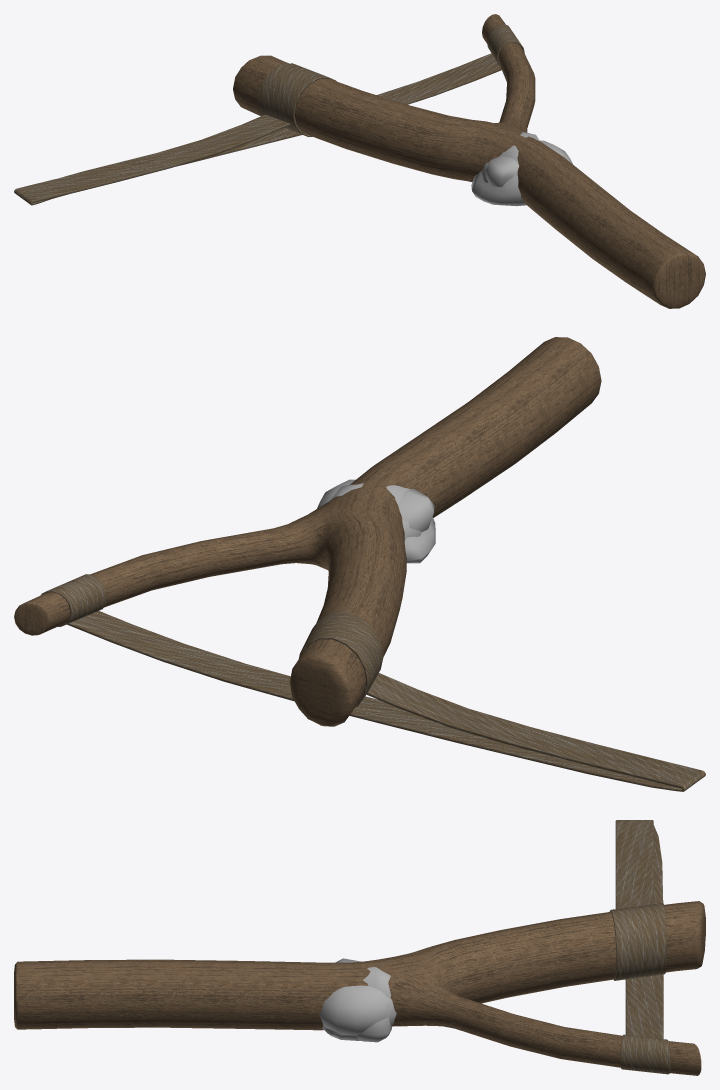
File: Weapon_SlingShot.fbx
The picture shows the model from 3 angles, top to bottom: view 1: azimuth 30°, elevation 25°; view 2: azimuth 150°, elevation 25°; view 3: azimuth 270°, elevation 25°; orthographic projection. The views are drawn at different scales.
Parts seen in each view (by area): view 1: SlingShot, Rock1, Rock2; view 2: SlingShot, Rock1, Rock2; view 3: SlingShot, Rock0, Rock1, Rock2.
Part boxes in pixels (x1=…): SlingShot: x1=14, y1=14, x2=705, y2=308; Rock1: x1=471, y1=131, x2=539, y2=206; Rock2: x1=485, y1=156, x2=519, y2=187; SlingShot: x1=14, y1=337, x2=705, y2=791; Rock1: x1=330, y1=483, x2=435, y2=563; Rock2: x1=399, y1=489, x2=434, y2=531; SlingShot: x1=14, y1=820, x2=705, y2=1075; Rock0: x1=319, y1=985, x2=396, y2=1035; Rock1: x1=322, y1=967, x2=392, y2=1040; Rock2: x1=335, y1=958, x2=391, y2=1042.
Bounding box in the file's own units: 27.84 × 3.13 × 29.5.
